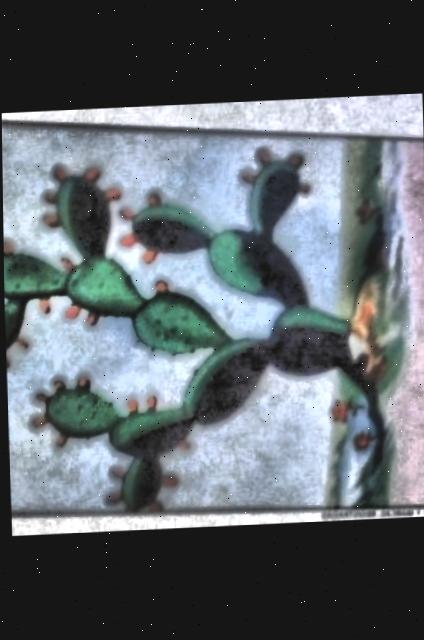El Nopal: (1, 121, 424, 518)
